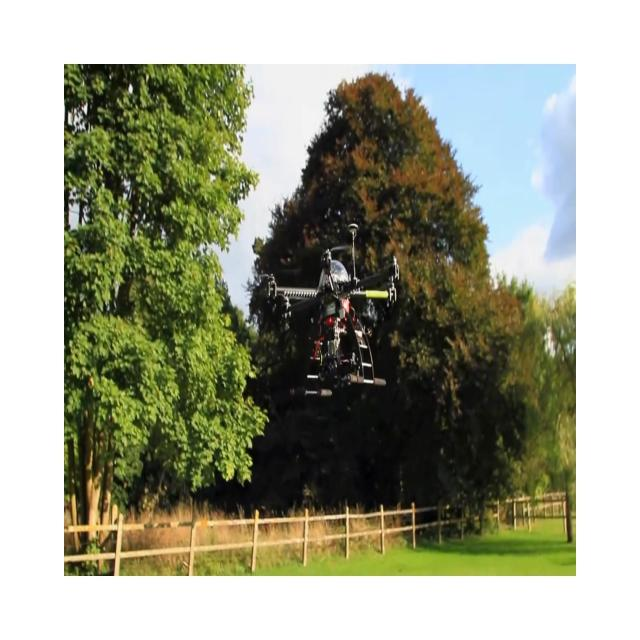drone: (256, 221, 400, 398)
